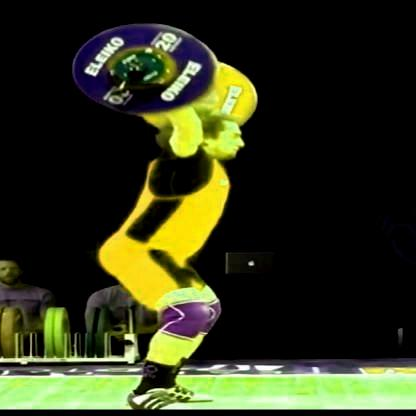Barbell: (114, 52, 157, 78)
